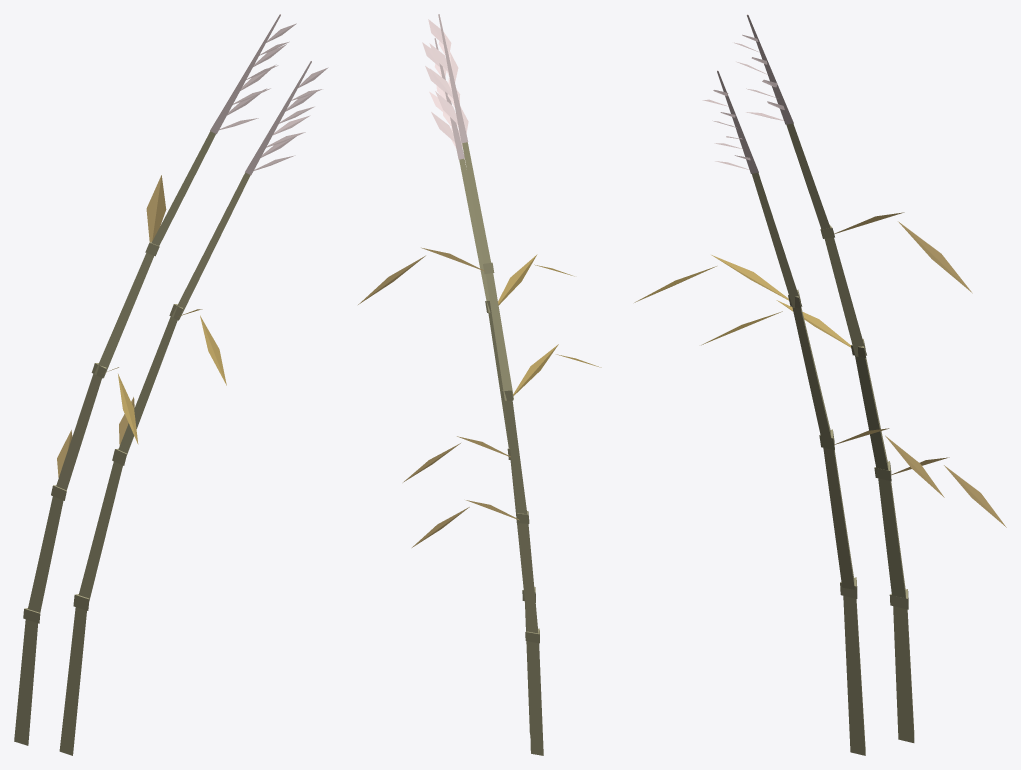
The model's file is shui.luwei@flowering__autumn.glb.
3 views of the same model, side by side, from view 1: azimuth 30°, elevation 25°; view 2: azimuth 150°, elevation 25°; view 3: azimuth 270°, elevation 25° (orthographic). The views are drawn at different scales.
Visible parts, largest first — view 1: shui.luwei@flowering__autumn; view 2: shui.luwei@flowering__autumn; view 3: shui.luwei@flowering__autumn.
Part boxes in pixels (bbox=[...]): shui.luwei@flowering__autumn: bbox=[14, 14, 328, 755]; shui.luwei@flowering__autumn: bbox=[358, 14, 601, 755]; shui.luwei@flowering__autumn: bbox=[634, 14, 1006, 755].
Bounding box in the file's own units: 1.03 × 3.2 × 1.32.
